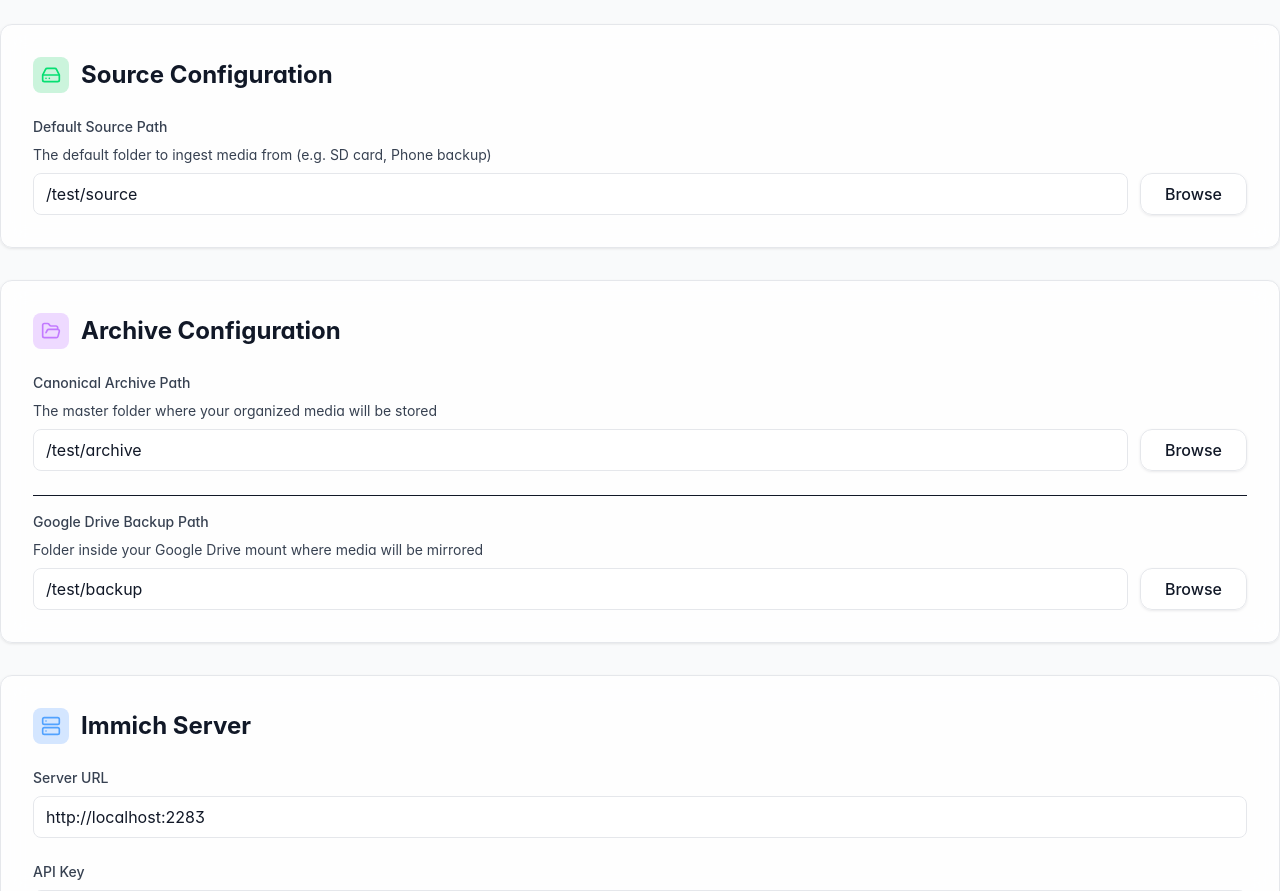
Test case: Settings › Form Interactions › allows browsing for archive path
(page scrolled)
Expected: the field showing "/test/archive" below "Canonical Archive Path" is shown, [33,429,1128,471]
Click the 2nd button "Browse": (1193, 450) [1140,429,1247,471]
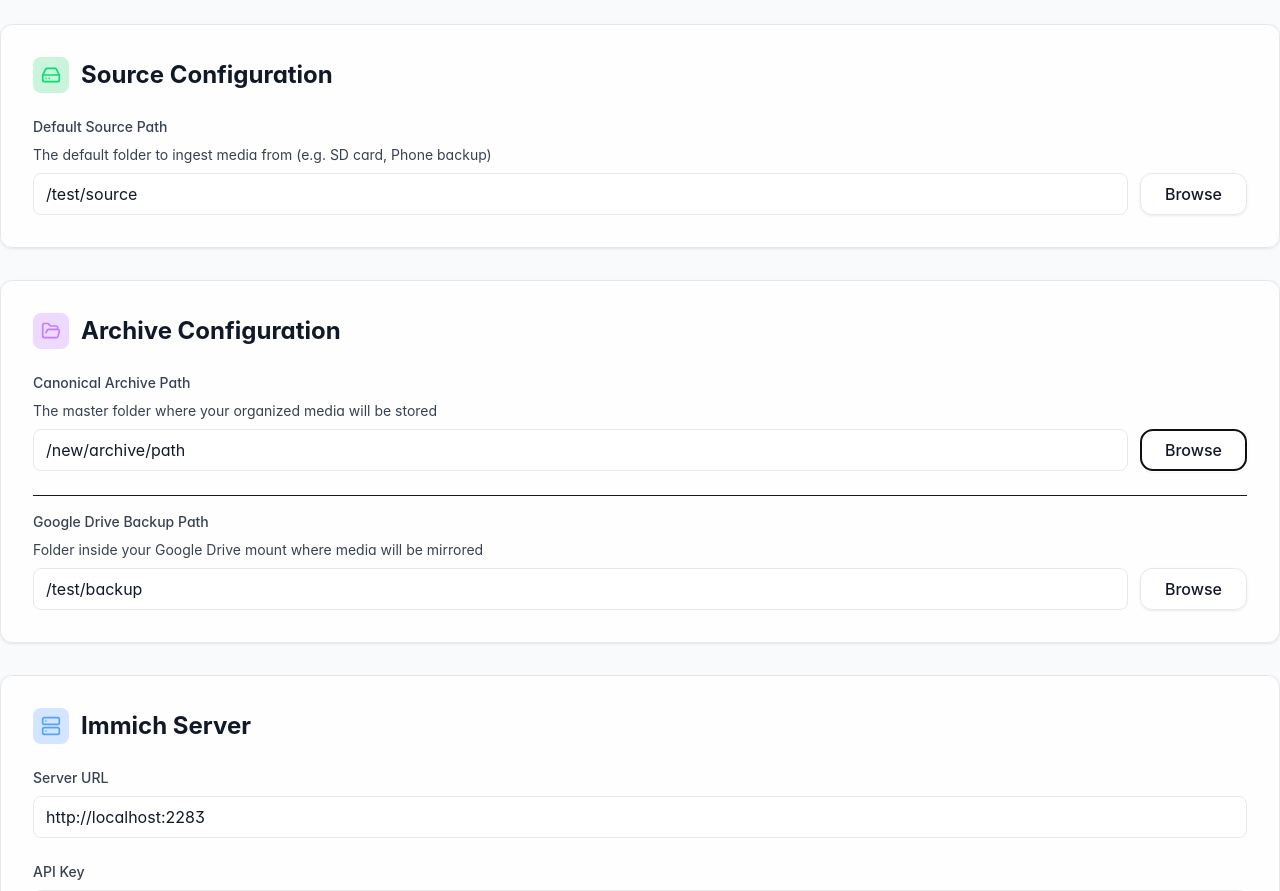
Expected: the field showing "/new/archive/path" below "Canonical Archive Path" is shown, [33,429,1128,471]
